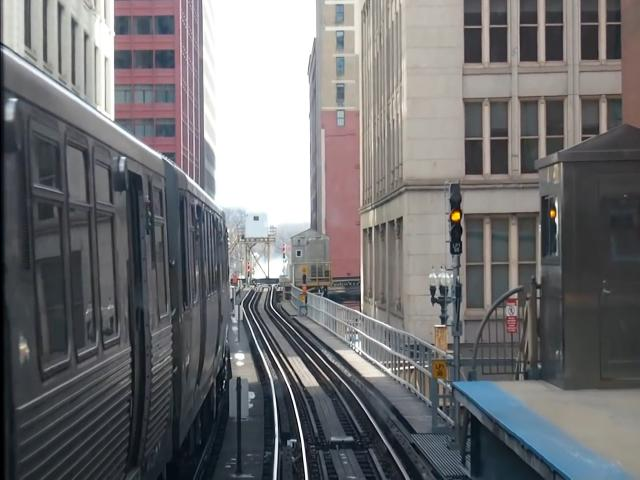signal light: (446, 181, 467, 260), (283, 243, 288, 263), (247, 260, 252, 279)
